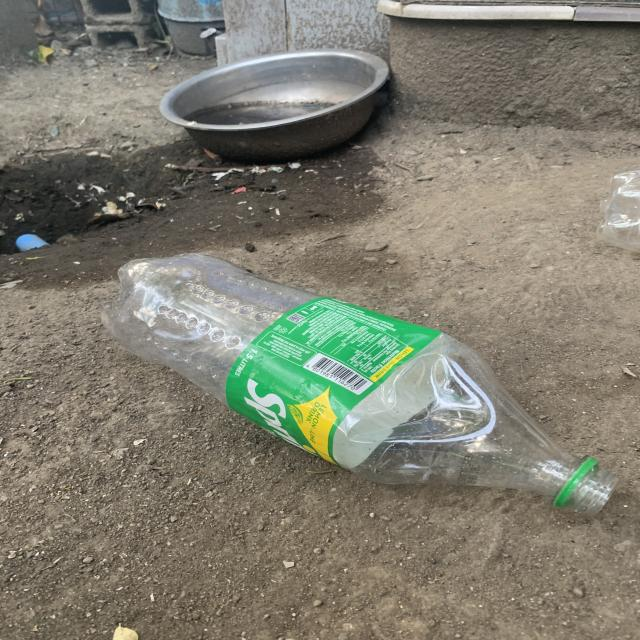Bottle: (102, 253, 617, 515)
